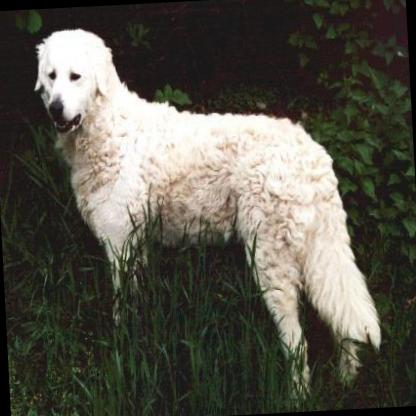kuvasz: (30, 9, 384, 416)
